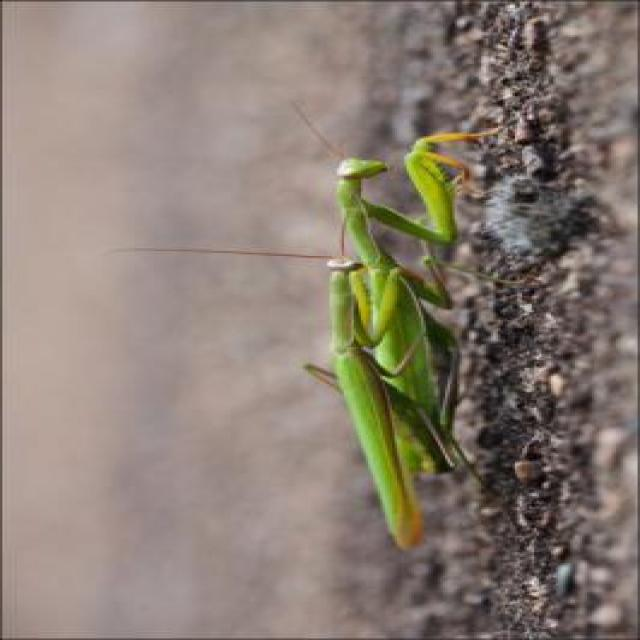antennae: (98, 248, 344, 261), (288, 102, 341, 159)
body: (322, 260, 415, 542), (348, 156, 440, 441)
insect: (90, 101, 514, 548), (105, 219, 459, 545)
legs: (364, 128, 496, 242), (375, 126, 485, 232), (358, 385, 471, 466), (344, 276, 422, 347), (415, 252, 458, 306), (293, 363, 369, 392), (382, 334, 426, 374)
mouthpart: (375, 157, 391, 175), (352, 260, 367, 273)
wings: (339, 359, 421, 540), (372, 274, 442, 414)
